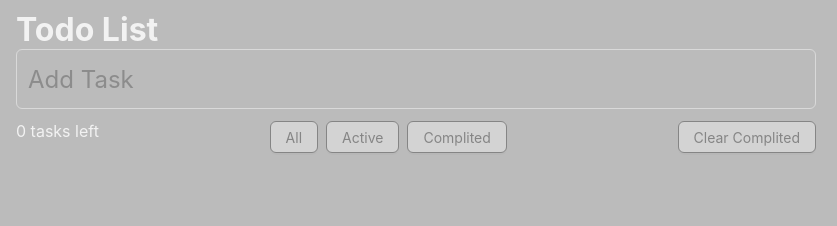
it: Task test › delete Task
In the field with test id "addTask": x=416, y=79 [16, 49, 816, 109], type "CLEAN THE DISHES"
Then press Enter
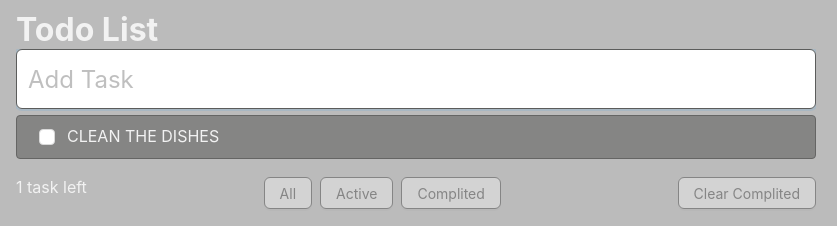
Now the checkbox with test id "CLEAN THE DISHES" is shown
Click the checkbox with test id "CLEAN THE DISHES": x=47, y=137 [39, 126, 55, 148]
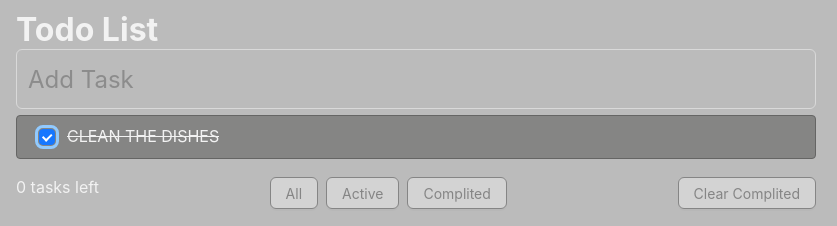
Click the button "Clear Complited": x=747, y=193 [678, 177, 816, 209]
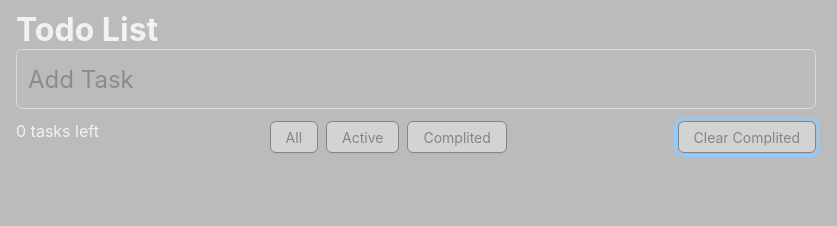
Now the text "CLEAN THE DISHES" is gone
